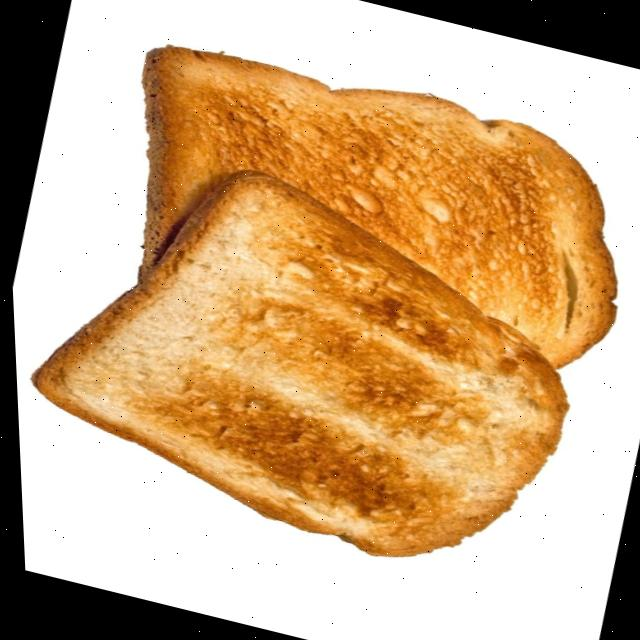Bread: (28, 171, 563, 556), (136, 46, 613, 367)
